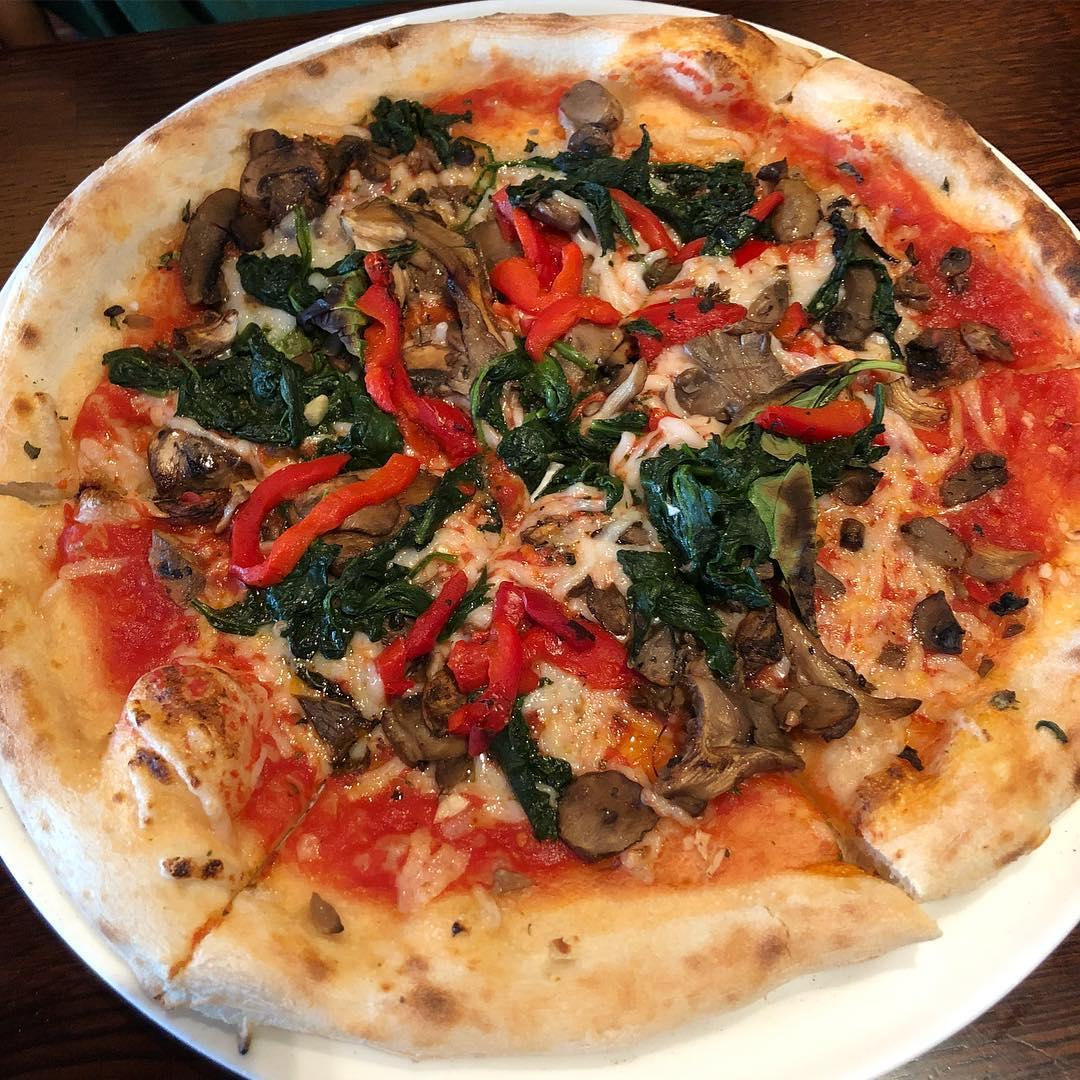Arugula: (115, 321, 412, 465), (623, 425, 790, 633), (465, 355, 620, 500), (207, 553, 430, 644), (537, 153, 754, 237), (243, 251, 378, 316), (369, 95, 468, 166)
Mushroom: (665, 653, 765, 792), (749, 619, 862, 741), (243, 131, 360, 214), (291, 475, 400, 561), (175, 185, 245, 308), (675, 329, 778, 409), (563, 771, 658, 849), (157, 431, 262, 498), (385, 681, 470, 761), (909, 313, 1013, 377), (837, 245, 889, 364), (549, 321, 641, 374), (553, 79, 617, 153), (767, 163, 820, 246)
Peppers: (225, 449, 422, 597), (353, 269, 481, 454), (453, 589, 637, 713), (493, 205, 613, 344), (369, 565, 464, 688), (613, 291, 749, 348), (615, 191, 710, 262), (751, 393, 873, 446), (771, 305, 820, 348)
Pizza: (0, 1, 1080, 1060)
